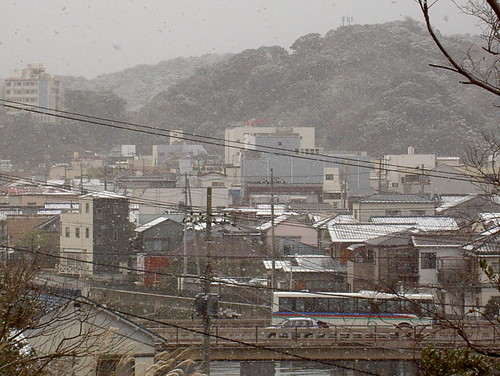building: (1, 298, 166, 376), (357, 233, 500, 304), (228, 123, 326, 193), (59, 188, 130, 282), (130, 222, 194, 286), (202, 218, 266, 282), (1, 69, 60, 127)
bus: (275, 286, 432, 335)
car: (260, 317, 329, 346)
